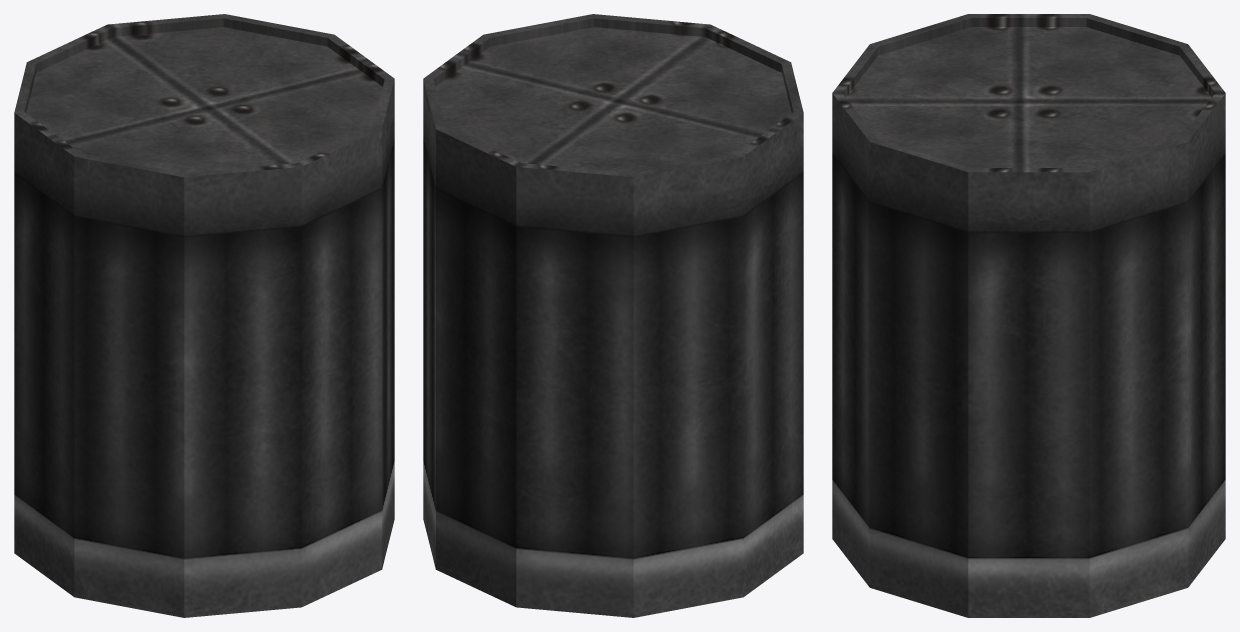
The model's file is Barrel.glb.
3 views of the same model, side by side, from view 1: azimuth 30°, elevation 25°; view 2: azimuth 150°, elevation 25°; view 3: azimuth 270°, elevation 25° (orthographic).
Parts seen in each view (by area): view 1: Mesh; view 2: Mesh; view 3: Mesh.
Part boxes in pixels (x1,y1,x2,y2): Mesh: (14, 14, 394, 617); Mesh: (423, 14, 803, 617); Mesh: (832, 14, 1225, 617).
Bounding box in the file's own units: 1.9 × 2.5 × 2.
1 material, 1 textured.
